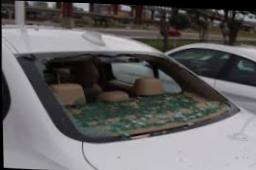Windshield: (23, 55, 237, 139)
